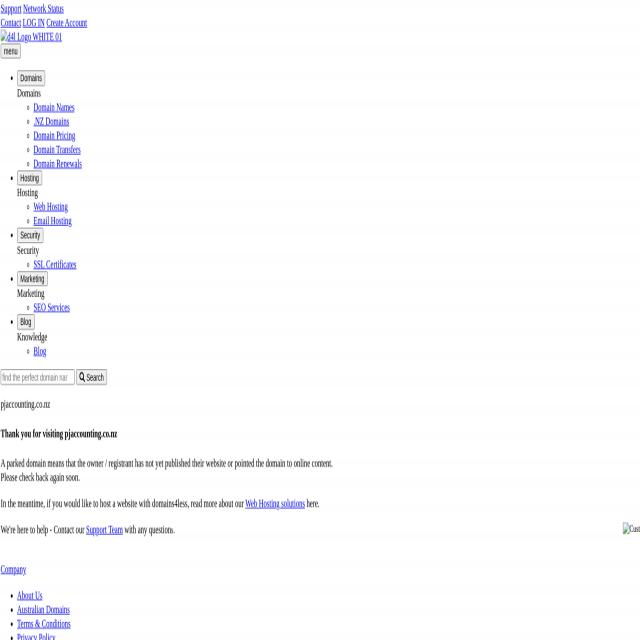button: (0, 28, 61, 42), (16, 270, 48, 285), (16, 69, 45, 85), (76, 369, 106, 384), (16, 169, 42, 185), (17, 227, 43, 242), (0, 42, 20, 58), (16, 313, 34, 329), (22, 14, 44, 27)
field: (0, 369, 74, 384)
